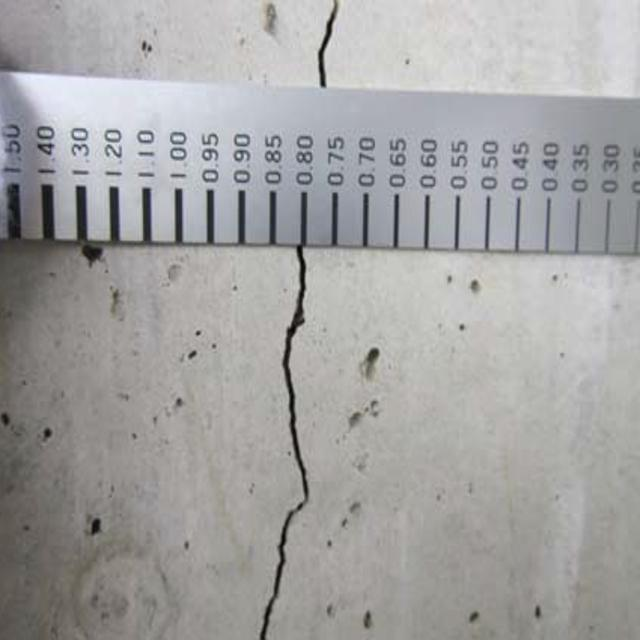crack: (227, 246, 322, 638), (299, 0, 367, 90)
